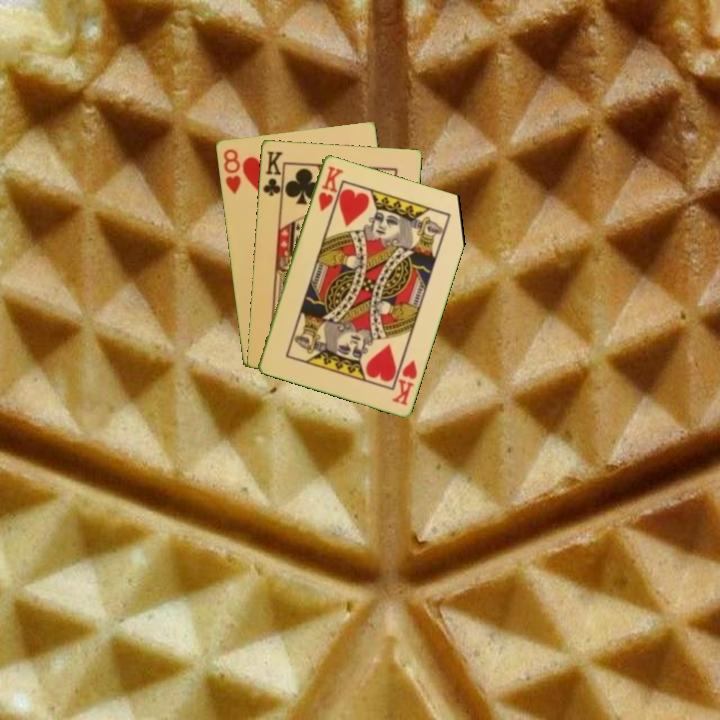8h: (220, 145, 243, 197)
Kc: (259, 147, 285, 203)
Kh: (388, 356, 420, 408), (314, 162, 345, 214)
